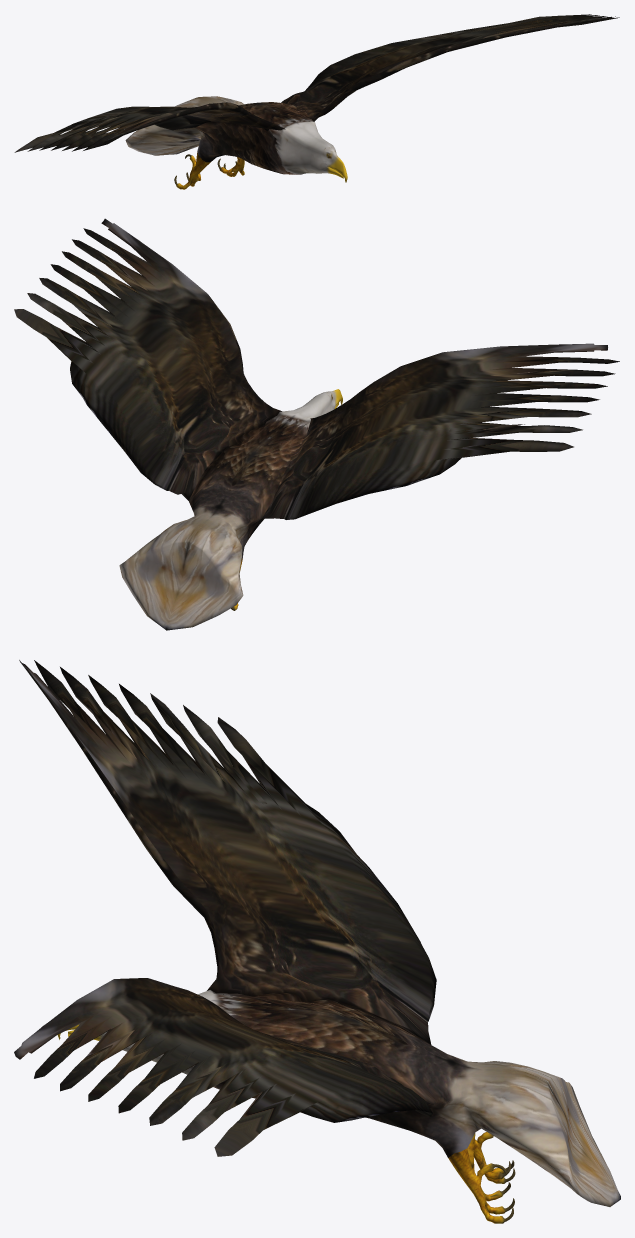
The model's file is Eagle.obj.
The picture shows the model from 3 angles, top to bottom: view 1: azimuth 30°, elevation 25°; view 2: azimuth 150°, elevation 25°; view 3: azimuth 270°, elevation 25°; orthographic projection. The views are drawn at different scales.
Parts seen in each view (by area): view 1: Flugel_Plane.003; view 2: Flugel_Plane.003; view 3: Flugel_Plane.003.
Boxes of the visible parts, x1,y1,x2,y2 form: Flugel_Plane.003: (14, 14, 619, 189); Flugel_Plane.003: (14, 218, 619, 630); Flugel_Plane.003: (14, 660, 620, 1223).
Bounding box in the file's own units: 10.66 × 3.88 × 6.2.
Materials: 1 (1 with a texture image).
